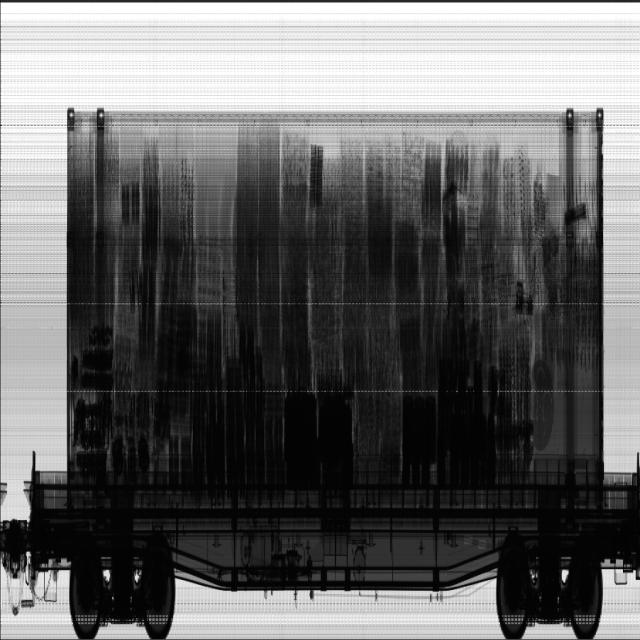shoes: (279, 131, 424, 302)
